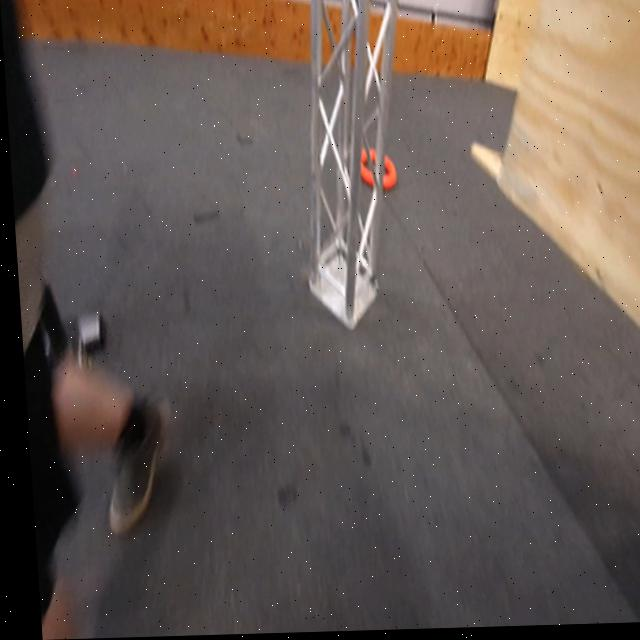note: (354, 152, 394, 191)
